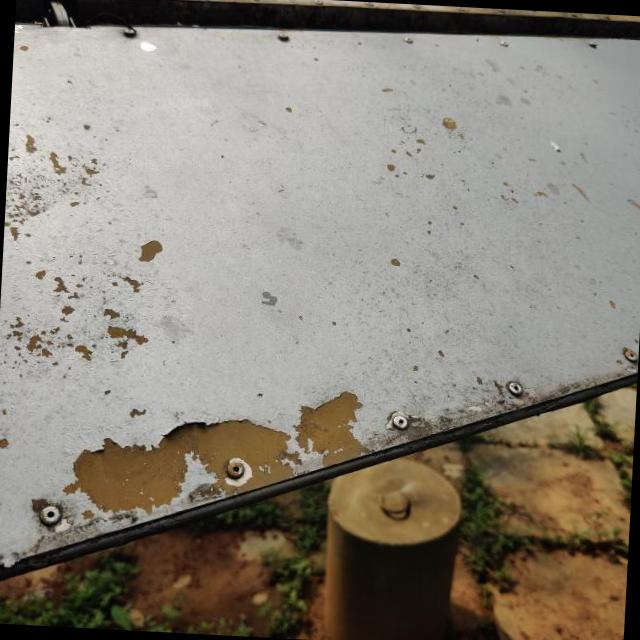Paint-off: (67, 421, 298, 513), (295, 393, 365, 466)
